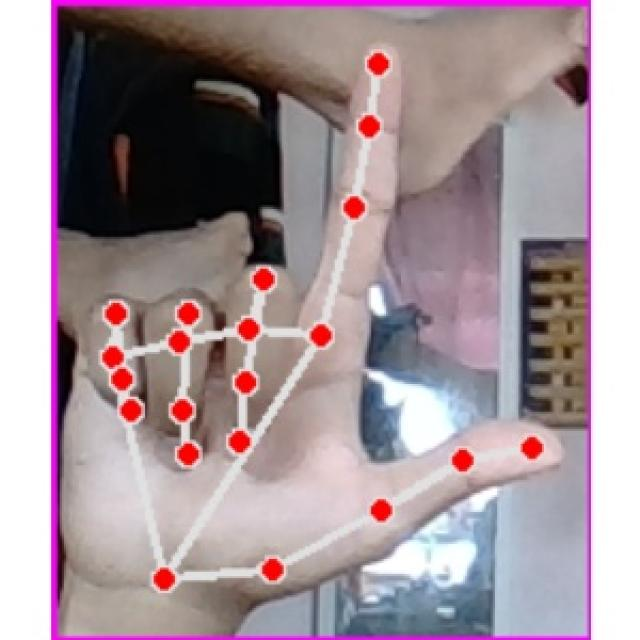L: (71, 36, 578, 608)
